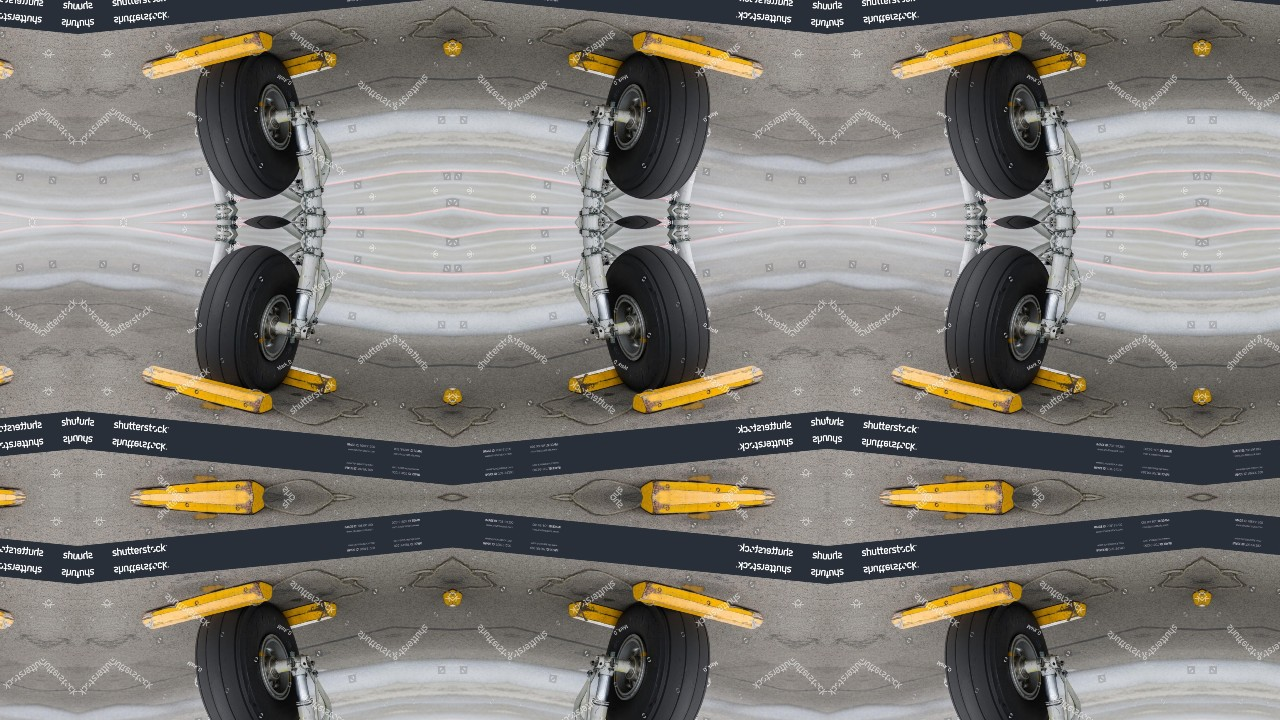chock: (138, 29, 277, 81), (628, 29, 767, 81), (888, 29, 1027, 81), (138, 363, 277, 415), (628, 363, 767, 415), (888, 363, 1027, 415), (138, 580, 277, 632), (628, 580, 767, 632), (888, 580, 1027, 632), (128, 497, 267, 526), (638, 497, 777, 526), (878, 497, 1017, 526), (128, 469, 267, 497), (638, 469, 777, 497), (878, 469, 1017, 497), (242, 360, 339, 396), (566, 360, 663, 396), (992, 360, 1089, 396), (242, 599, 339, 635), (566, 599, 663, 635), (992, 599, 1089, 635), (242, 49, 339, 84), (566, 49, 663, 84), (992, 49, 1089, 84), (0, 29, 17, 81), (0, 363, 17, 415), (0, 580, 17, 632), (0, 497, 27, 526), (0, 469, 27, 497)
wheel: (189, 48, 302, 207), (603, 48, 716, 207), (939, 48, 1052, 207), (189, 238, 302, 396), (603, 238, 716, 396), (939, 238, 1052, 396), (189, 599, 302, 720), (603, 599, 716, 720), (939, 599, 1052, 720)
